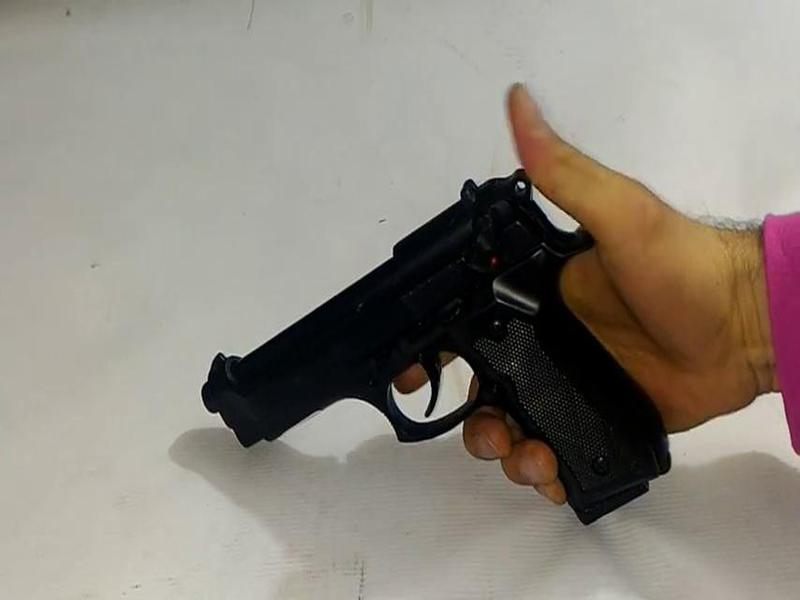Pistola: (184, 154, 695, 531)
